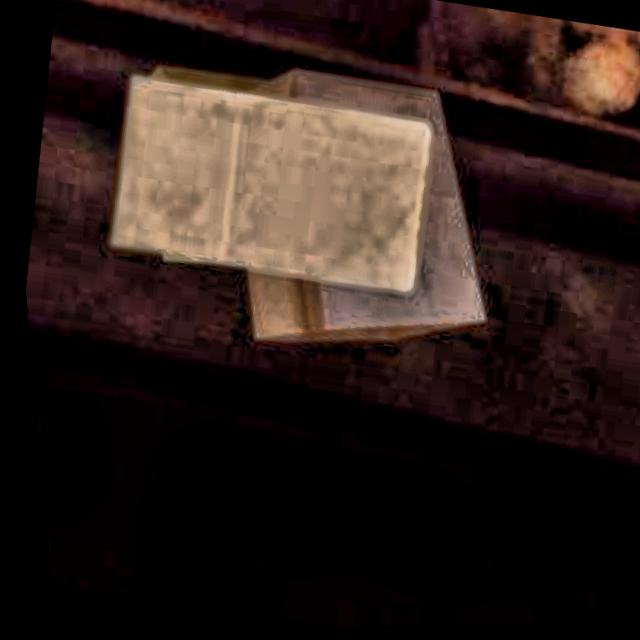Paper-bag: (176, 37, 537, 399), (82, 35, 465, 322)
